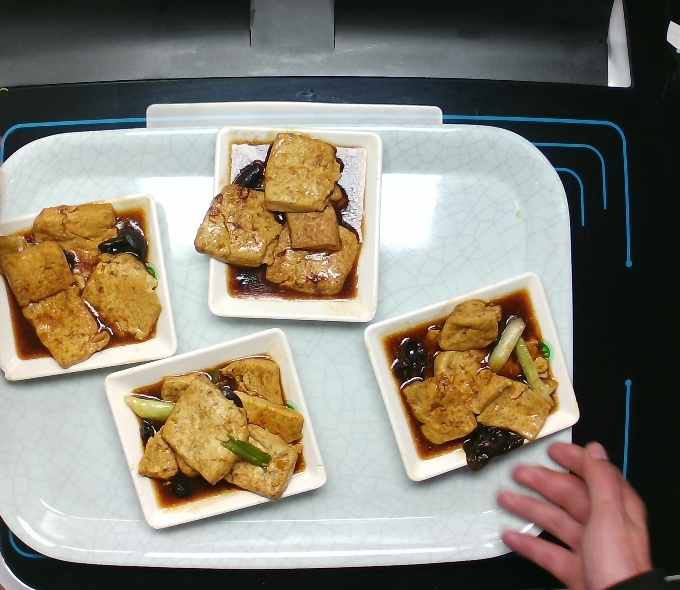wcq-JiaChangDouFu: (378, 285, 563, 477), (188, 127, 373, 306), (116, 347, 311, 513), (1, 197, 167, 373)
